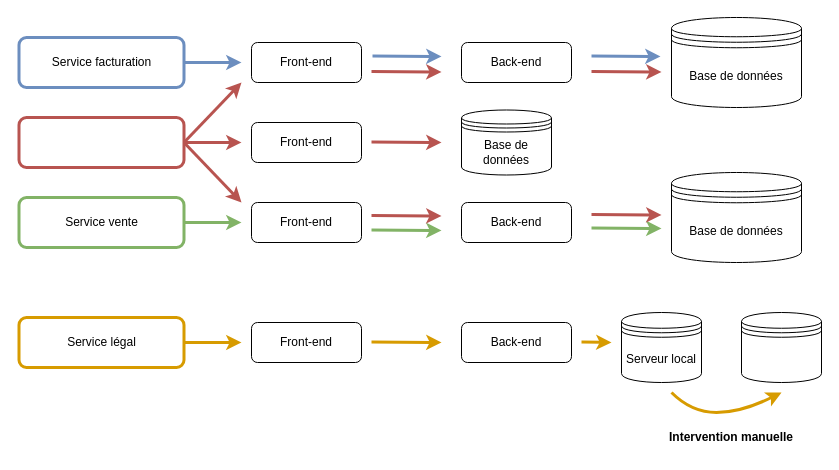
Image size: 839x470. Some labels were removed from this diagram. Here are the shapes that lost their labels. From the top down, the centre of each, then its label:
At (101,142): "Service client".
At (781,347): "Serveur backup local".
